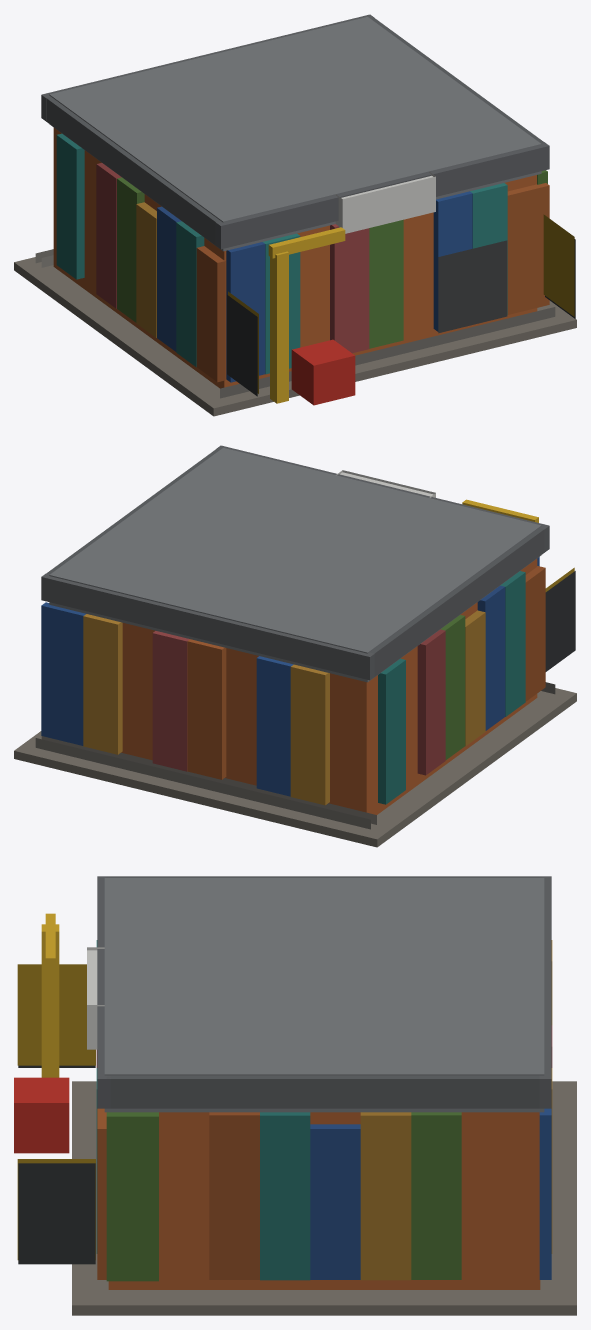
The model's file is TrashGobblerSil.fbx.
The picture shows the model from 3 angles, top to bottom: view 1: azimuth 30°, elevation 25°; view 2: azimuth 150°, elevation 25°; view 3: azimuth 270°, elevation 25°; orthographic projection. The views are drawn at different scales.
Parts seen in each view (by area): view 1: JY_S_All; view 2: JY_S_All; view 3: JY_S_All.
Part boxes in pixels (x1=…): JY_S_All: x1=14, y1=14, x2=576, y2=416; JY_S_All: x1=14, y1=445, x2=576, y2=847; JY_S_All: x1=14, y1=876, x2=576, y2=1315.
Size of the model in its own units: 42.04 by 19.9 by 44.64.
